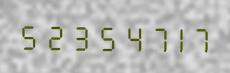five: (17, 18, 40, 51), (89, 19, 112, 52)
four: (113, 19, 136, 53)
one: (161, 20, 184, 54)
seven: (137, 20, 160, 53), (185, 21, 208, 54)
three: (65, 19, 88, 52)
two: (41, 18, 64, 52)
